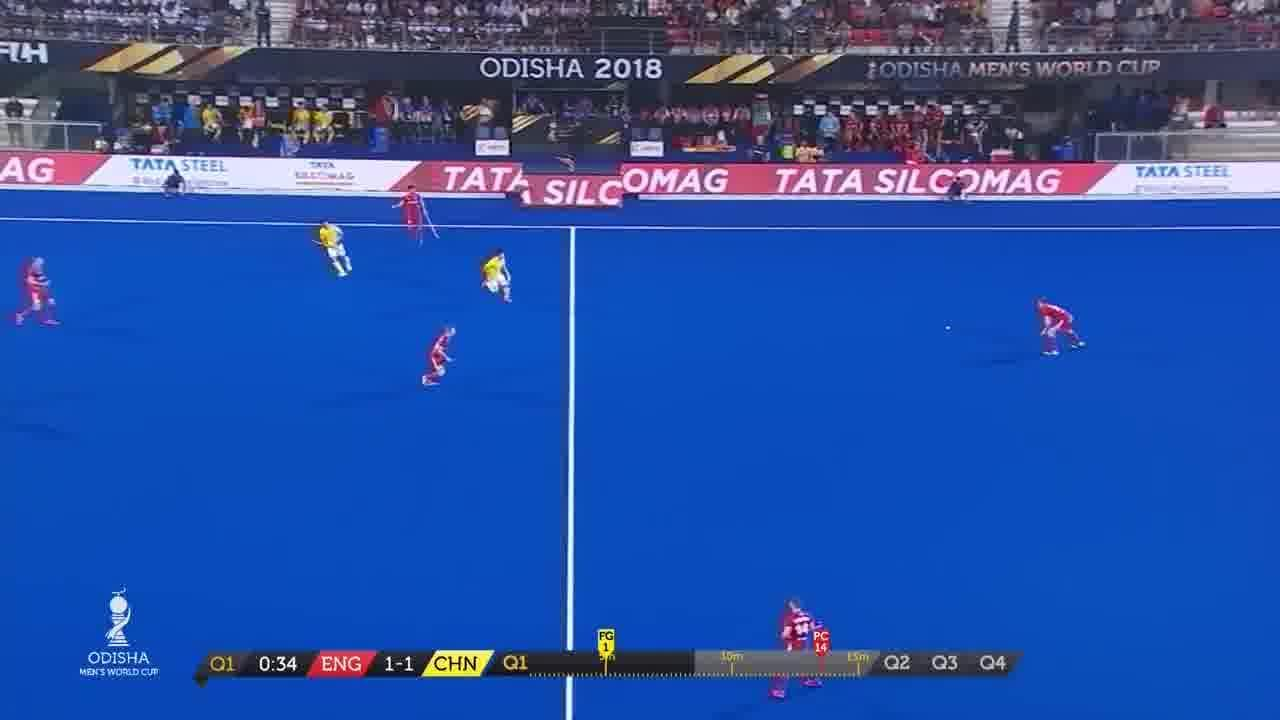ball: (946, 325, 954, 333)
